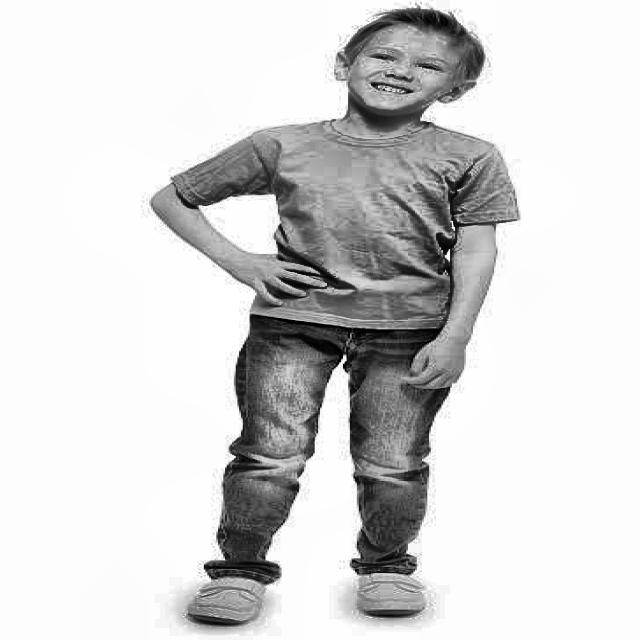Human: (154, 12, 542, 640)
